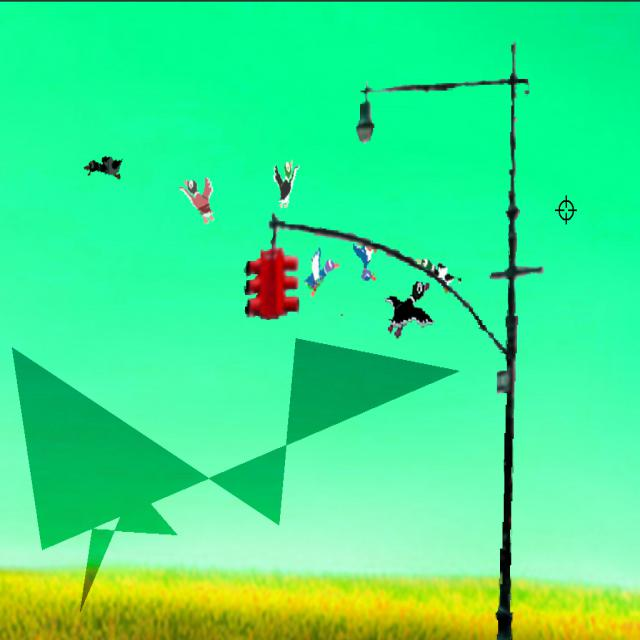duck: (380, 278, 441, 346), (302, 238, 340, 306), (417, 247, 465, 296), (182, 176, 221, 225), (80, 149, 128, 185), (268, 162, 300, 216)
falling_duck: (354, 229, 382, 293)
